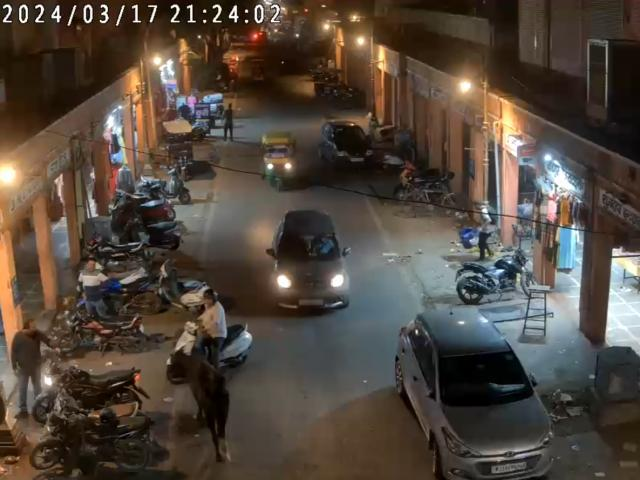auto: (260, 131, 298, 188)
bicycle: (394, 179, 462, 218)
car: (394, 304, 554, 480), (269, 208, 353, 310)
cattle: (167, 344, 233, 462)
helmet: (200, 291, 220, 306)
license_plate: (490, 461, 528, 474), (298, 298, 324, 306)
motorbike: (38, 410, 154, 474), (29, 364, 150, 414), (456, 242, 538, 302), (54, 310, 147, 352), (81, 238, 146, 268)
person: (10, 313, 49, 417), (77, 263, 116, 316)
scooty: (151, 260, 212, 312), (115, 210, 182, 250), (137, 168, 190, 204), (114, 196, 172, 222)
scooty-rider: (170, 290, 250, 381)
